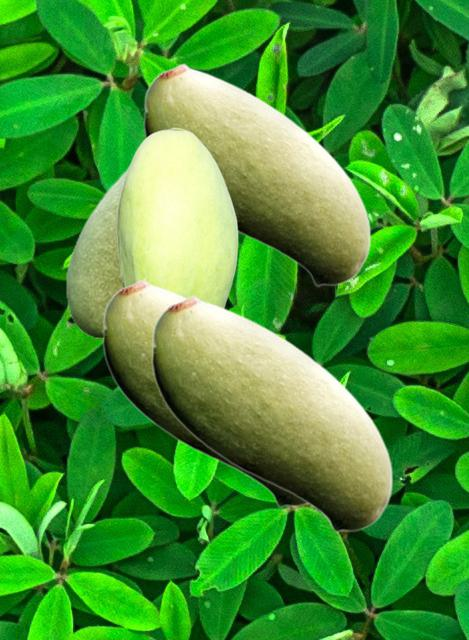green_mango: (151, 294, 392, 532), (143, 62, 370, 286), (102, 278, 306, 507), (116, 127, 237, 306), (65, 163, 129, 337)
